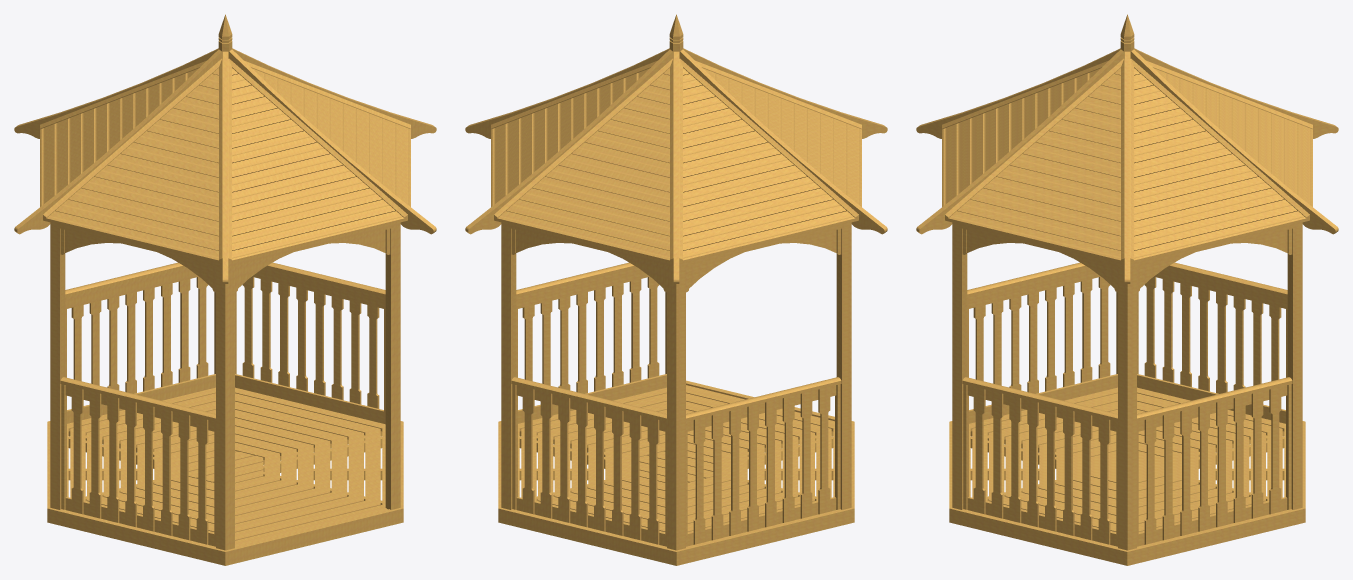
Rendered from gazebo.fbx.
3 views of the same model, side by side, from view 1: azimuth 30°, elevation 25°; view 2: azimuth 150°, elevation 25°; view 3: azimuth 270°, elevation 25° (orthographic).
Parts seen in each view (by area): view 1: Grupuj_34, Grupuj_37, Grupuj_35, Grupuj_38, Grupuj_1, Grupuj_3, Grupuj_2, Grupuj_8, Grupuj_9, Grupuj_13, Grupuj_5, Grupuj_10 (+51 smaller); view 2: Grupuj_33, Grupuj_38, Grupuj_34, Grupuj_36, Grupuj_12, Grupuj_13, Grupuj_17, Grupuj_3, Grupuj_4, Grupuj_14, Grupuj_21, Grupuj_1 (+52 smaller); view 3: Grupuj_35, Grupuj_36, Grupuj_33, Grupuj_37, Grupuj_16, Grupuj_9, Grupuj_17, Grupuj_1, Grupuj_6, Grupuj_18, Grupuj_20, Grupuj_5 (+63 smaller).
Part boxes in pixels (x1=…): Grupuj_34: x1=43, y1=68, x2=222, y2=264; Grupuj_37: x1=228, y1=68, x2=407, y2=264; Grupuj_35: x1=252, y1=68, x2=410, y2=206; Grupuj_38: x1=40, y1=68, x2=198, y2=206; Grupuj_1: x1=235, y1=476, x2=387, y2=546; Grupuj_3: x1=235, y1=387, x2=385, y2=464; Grupuj_2: x1=263, y1=427, x2=385, y2=505; Grupuj_8: x1=216, y1=266, x2=234, y2=550; Grupuj_9: x1=385, y1=226, x2=400, y2=509; Grupuj_13: x1=50, y1=226, x2=65, y2=509; Grupuj_5: x1=67, y1=428, x2=180, y2=500; Grupuj_10: x1=225, y1=508, x2=403, y2=565; Grupuj_33: x1=494, y1=68, x2=673, y2=264; Grupuj_38: x1=679, y1=68, x2=858, y2=264; Grupuj_34: x1=703, y1=68, x2=861, y2=206; Grupuj_36: x1=491, y1=68, x2=649, y2=206; Grupuj_12: x1=667, y1=266, x2=685, y2=550; Grupuj_13: x1=836, y1=226, x2=851, y2=509; Grupuj_17: x1=501, y1=226, x2=516, y2=509; Grupuj_3: x1=518, y1=428, x2=631, y2=500; Grupuj_4: x1=721, y1=428, x2=834, y2=500; Grupuj_14: x1=676, y1=508, x2=854, y2=565; Grupuj_21: x1=498, y1=508, x2=676, y2=565; Grupuj_1: x1=686, y1=385, x2=834, y2=456; Grupuj_35: x1=945, y1=68, x2=1124, y2=264; Grupuj_36: x1=1130, y1=68, x2=1309, y2=264; Grupuj_33: x1=1154, y1=68, x2=1312, y2=206; Grupuj_37: x1=942, y1=68, x2=1100, y2=206; Grupuj_16: x1=1118, y1=266, x2=1136, y2=550; Grupuj_9: x1=952, y1=226, x2=967, y2=509; Grupuj_17: x1=1287, y1=226, x2=1302, y2=509; Grupuj_1: x1=969, y1=428, x2=1082, y2=500; Grupuj_6: x1=1172, y1=428, x2=1285, y2=500; Grupuj_18: x1=1127, y1=508, x2=1305, y2=565; Grupuj_20: x1=949, y1=508, x2=1127, y2=565; Grupuj_5: x1=1137, y1=387, x2=1285, y2=456.
Bounding box in the file's own units: 111 × 97.06 × 118.
1 material, 1 textured.
